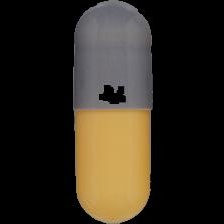0228-2780: (0, 0, 224, 224)
